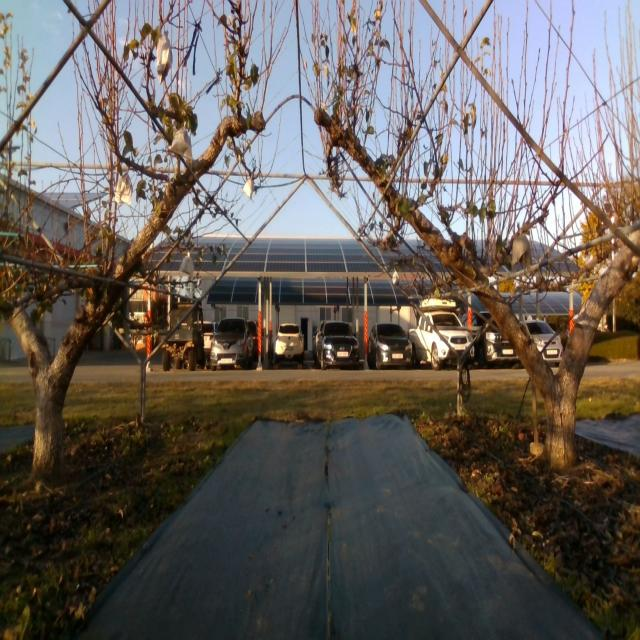pearbags: (169, 127, 193, 161), (156, 35, 172, 83), (511, 234, 531, 268), (115, 174, 133, 203), (179, 256, 194, 277), (242, 179, 254, 198)
